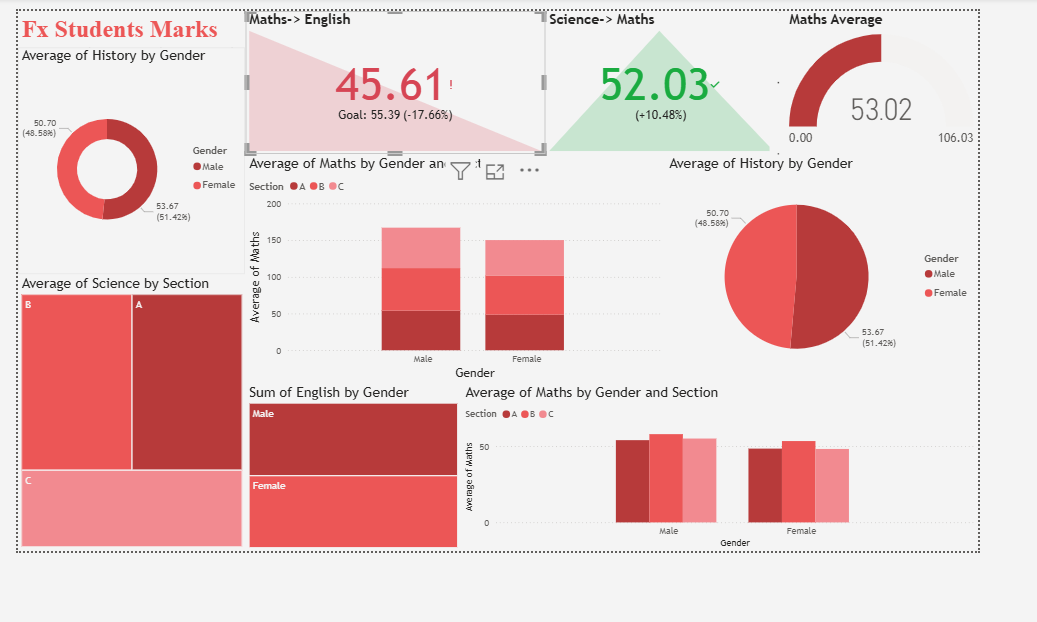

This screenshot's page, from the dashboard's own definition file:
{"tool":"powerbi","page":{"name":"Page 1","canvas":[1280,720],"ordinal":0},"visuals":[{"type":"clusteredBarChart","fields":{"Category":["marksheet.Gender"],"Y":["CountNonNull(marksheet.id)"],"Series":["marksheet.Section"]},"box":[608.3,216.7,280,280],"z":0},{"type":"columnChart","fields":{"Category":["marksheet.Gender"],"Y":["Avg(marksheet.Maths)"],"Series":["marksheet.Section"]},"box":[304,192,560,304],"z":1000},{"type":"clusteredColumnChart","fields":{"Category":["marksheet.Gender"],"Series":["marksheet.Section"],"Y":["Avg(marksheet.Maths)"]},"box":[592,496,688,224],"z":2000},{"type":"pieChart","fields":{"Category":["marksheet.Gender"],"Y":["Avg(marksheet.History)"]},"box":[864,192,416,304],"z":3000},{"type":"donutChart","fields":{"Category":["marksheet.Gender"],"Y":["Avg(marksheet.History)"]},"box":[0,48,304,304],"z":4000},{"type":"treemap","fields":{"Group":["marksheet.Gender"],"Values":["Sum(marksheet.English)"]},"box":[304,496,288,224],"z":5000},{"type":"treemap","fields":{"Group":["marksheet.Section"],"Values":["Avg(marksheet.Science)"]},"box":[0,352,304,368],"z":6000},{"type":"kpi","title":"Science-> Maths","fields":{"Goal":["Avg(marksheet.Science)"],"TrendLine":["marksheet.Section"],"Indicator":["Avg(marksheet.Maths)"]},"box":[704,0,304,192],"z":7000},{"type":"kpi","title":"Maths-> English","fields":{"Indicator":["Avg(marksheet.English)"],"TrendLine":["marksheet.Gender"],"Goal":["Avg(marksheet.Maths)"]},"box":[304,0,400,192],"z":8000},{"type":"gauge","title":"Maths Average","fields":{"Y":["Avg(marksheet.Maths)"]},"box":[976,0,304,192],"z":9000},{"type":"textbox","box":[0,0,304,48],"z":10000}]}

Visuals, with their boxes on the page's 1280x720 design canvas (x1, y1, x2, y2). These are canvas units, not pixel positions in the 1037x622 screenshot, which may show the page scaled, cropped or inside an application window:
clusteredBarChart - marksheet.Gender x CountNonNull(marksheet.id): box(608, 217, 888, 497)
columnChart - marksheet.Gender x Avg(marksheet.Maths): box(304, 192, 864, 496)
clusteredColumnChart - marksheet.Gender x marksheet.Section: box(592, 496, 1280, 720)
pieChart - marksheet.Gender x Avg(marksheet.History): box(864, 192, 1280, 496)
donutChart - marksheet.Gender x Avg(marksheet.History): box(0, 48, 304, 352)
treemap - marksheet.Gender x Sum(marksheet.English): box(304, 496, 592, 720)
treemap - marksheet.Section x Avg(marksheet.Science): box(0, 352, 304, 720)
"Science-> Maths" kpi: box(704, 0, 1008, 192)
"Maths-> English" kpi: box(304, 0, 704, 192)
"Maths Average" gauge: box(976, 0, 1280, 192)
textbox: box(0, 0, 304, 48)
